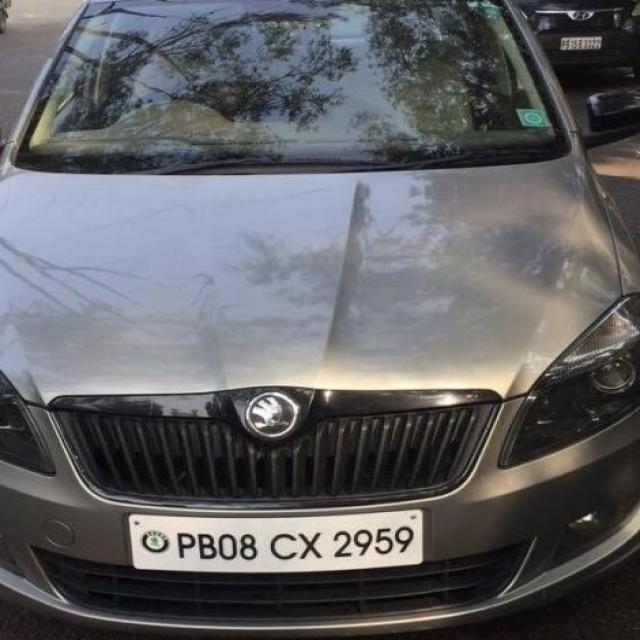license-plate: (128, 506, 421, 572)
